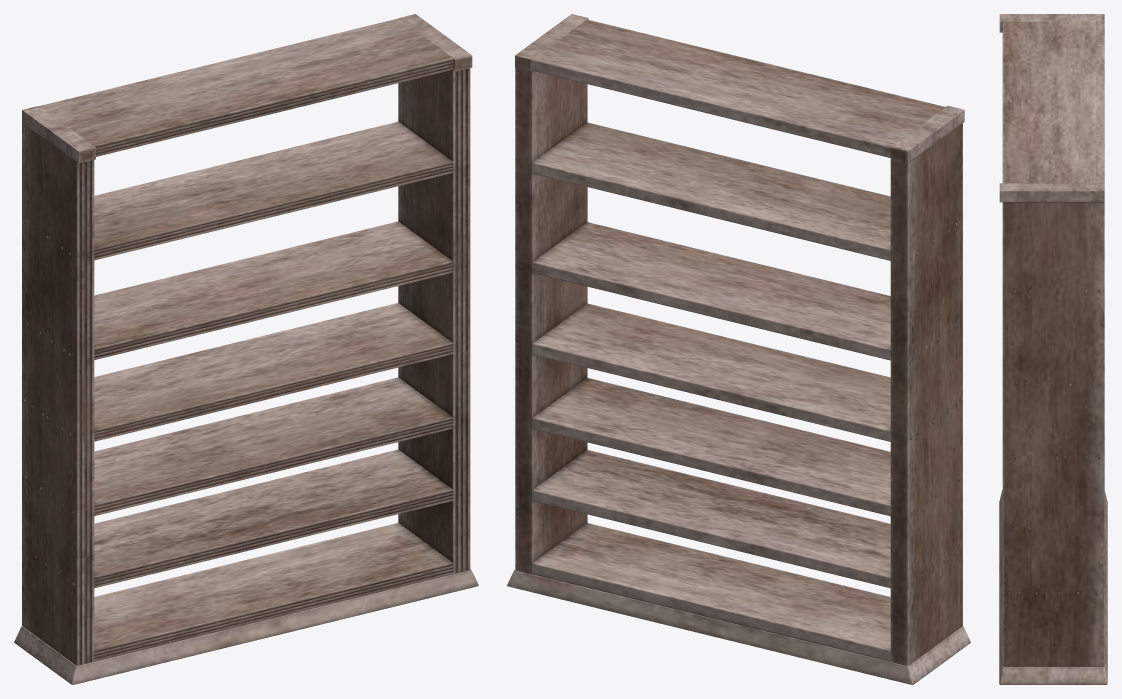
The model's file is bookshelf.glb.
3 renders of one model, left to right at view 1: azimuth 30°, elevation 25°; view 2: azimuth 150°, elevation 25°; view 3: azimuth 270°, elevation 25°, orthographic. The views are drawn at different scales.
Visible parts, largest first — view 1: wooden_bookshelf_worn_0_n0; view 2: wooden_bookshelf_worn_0_n0; view 3: wooden_bookshelf_worn_0_n0.
Boxes of the visible parts, bbox=[...] form: wooden_bookshelf_worn_0_n0: bbox=[14, 14, 478, 684]; wooden_bookshelf_worn_0_n0: bbox=[507, 14, 970, 684]; wooden_bookshelf_worn_0_n0: bbox=[999, 14, 1107, 684].
Size of the model in its own units: 1.6 by 2 by 0.4009.
Materials: 1 (1 with a texture image).
